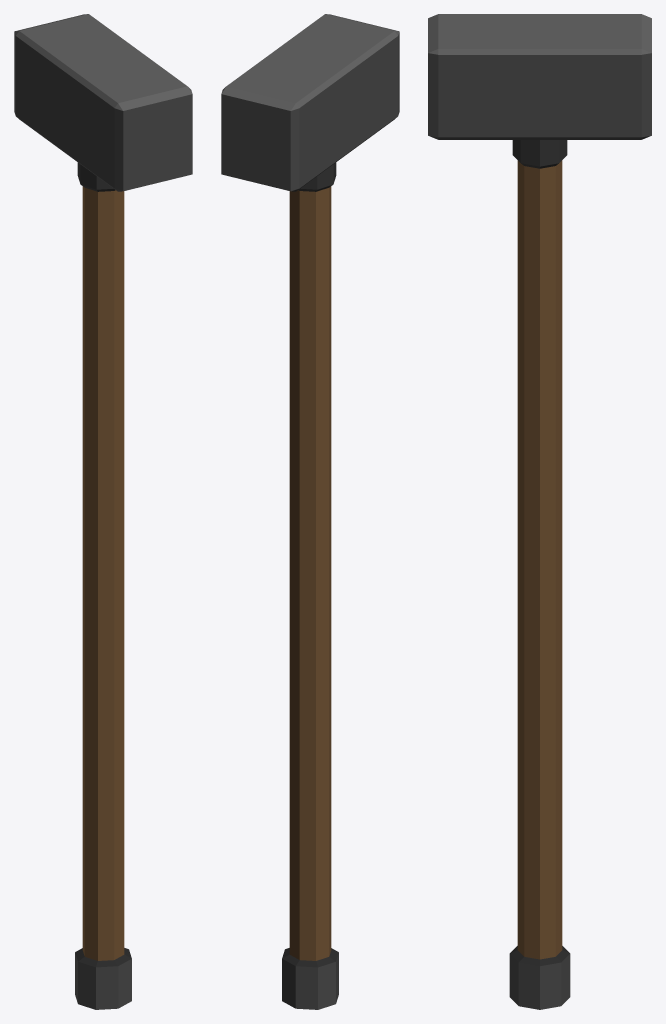
File: sledgehammer_1.fbx
3 views of the same model, side by side, from view 1: azimuth 30°, elevation 25°; view 2: azimuth 150°, elevation 25°; view 3: azimuth 270°, elevation 25° (orthographic). The views are drawn at different scales.
Visible parts, largest first — view 1: sledgehammer_1; view 2: sledgehammer_1; view 3: sledgehammer_1.
Boxes of the visible parts, bbox=[...] form: sledgehammer_1: bbox=[14, 14, 192, 1009]; sledgehammer_1: bbox=[221, 14, 399, 1009]; sledgehammer_1: bbox=[428, 14, 651, 1009].
Bounding box in the file's own units: 18.62 × 218 × 45.84.
Materials: 1 (1 with a texture image).
